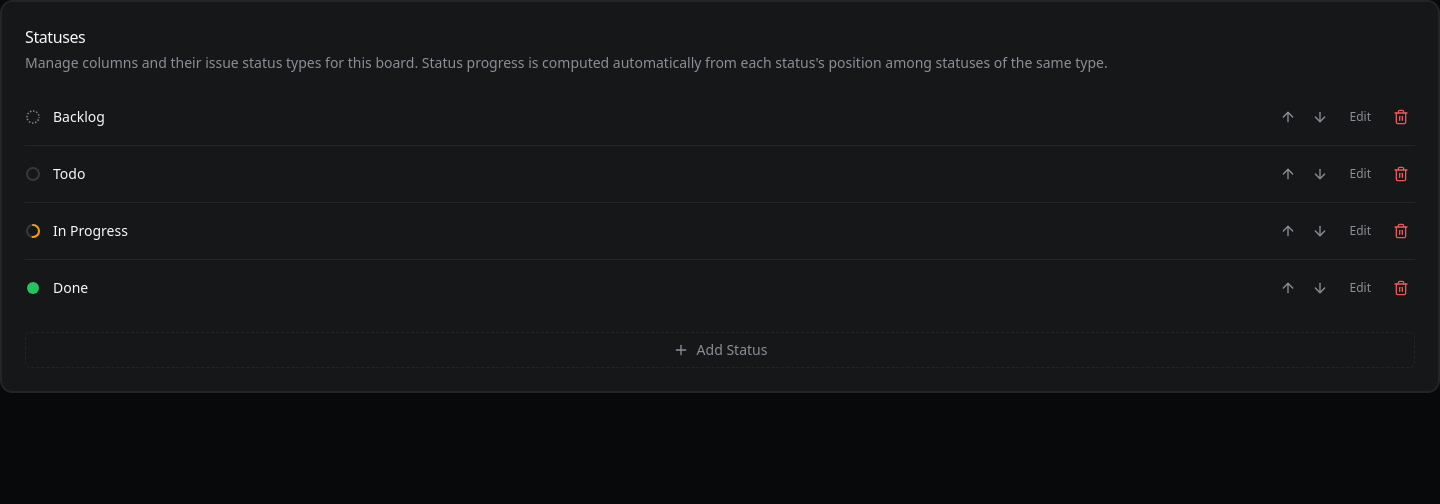
StatusesSection › opens add form on "Add Status" click
Click the button "Add Status".
click(720, 350)  # box top-left (25, 332), bottom-right (1415, 368)
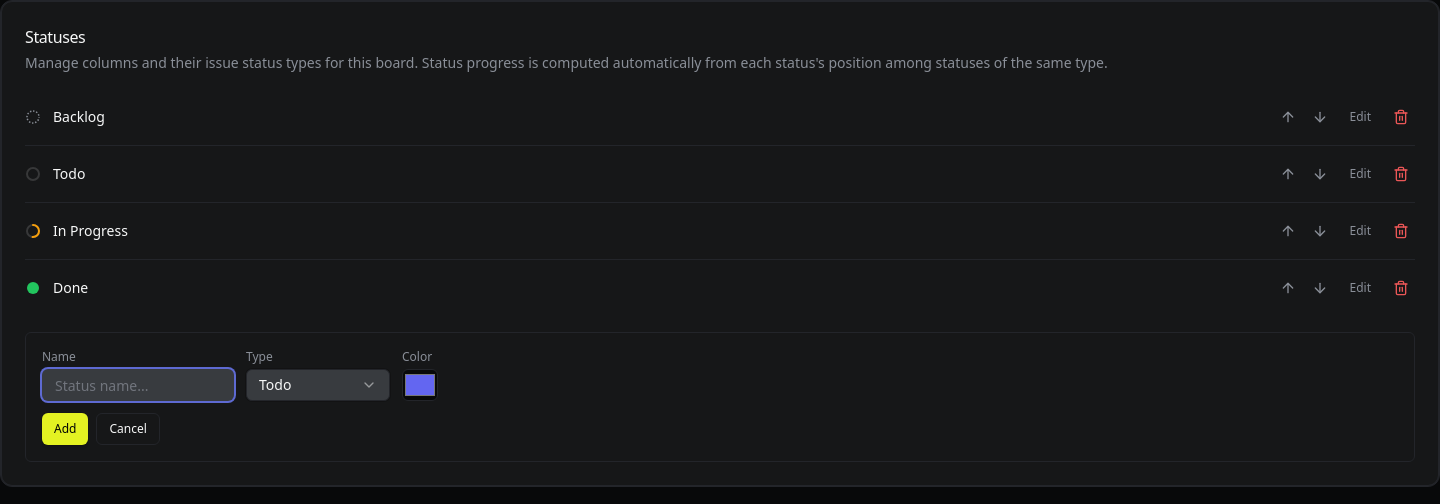
Expected: the field with placeholder "Status name..." is shown, top-left (42, 369), bottom-right (234, 401)
